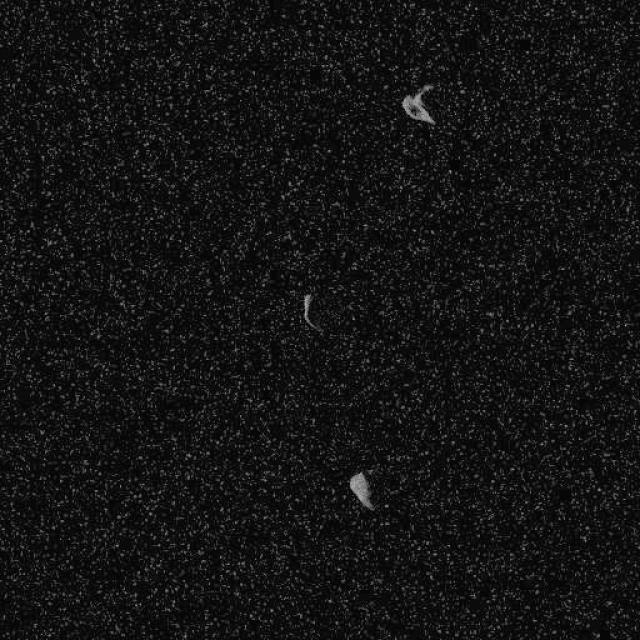D2: (400, 83, 436, 125), (348, 470, 377, 511), (300, 292, 322, 332)
